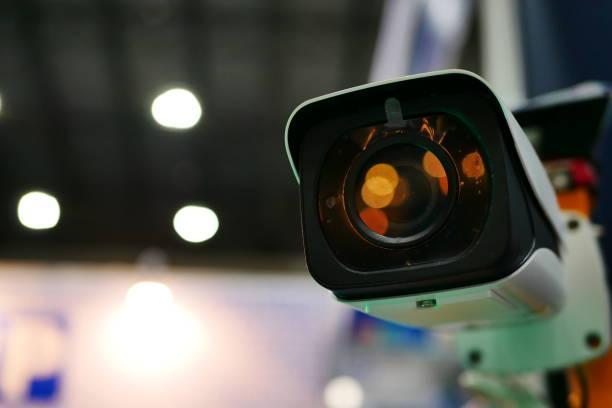camera: (255, 41, 584, 364)
